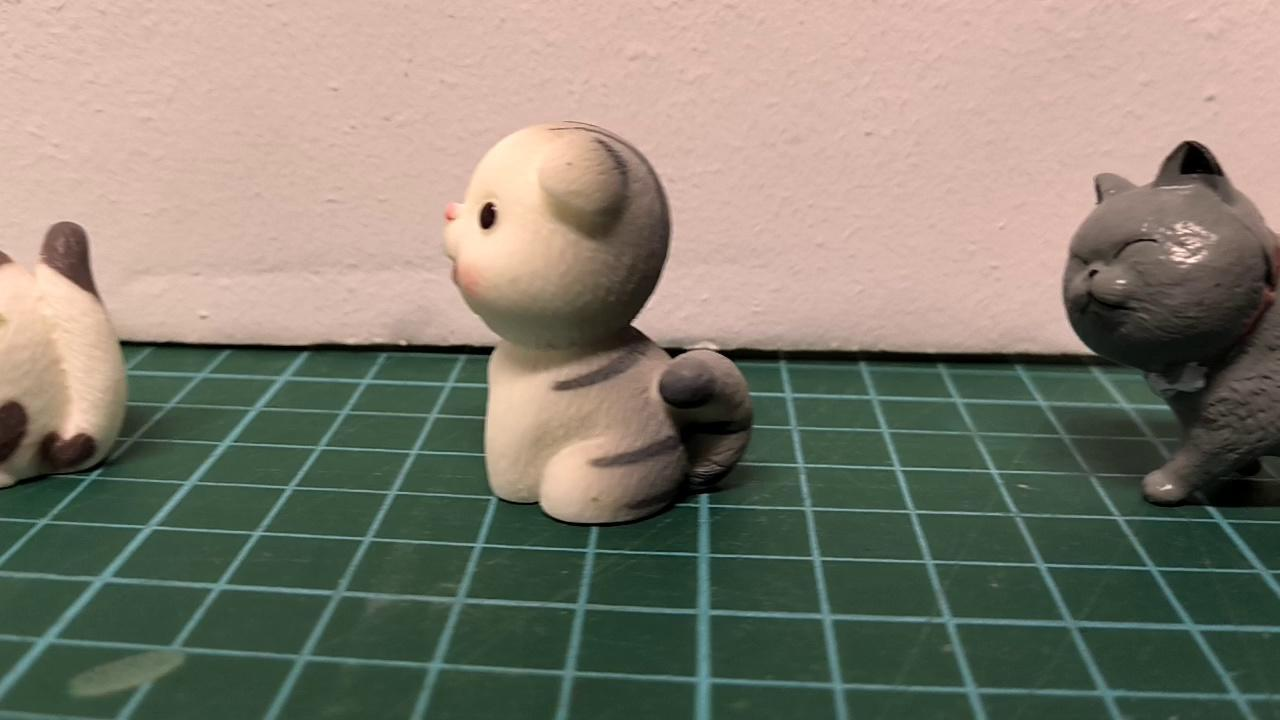pet: (432, 110, 759, 530), (1056, 127, 1280, 514)
